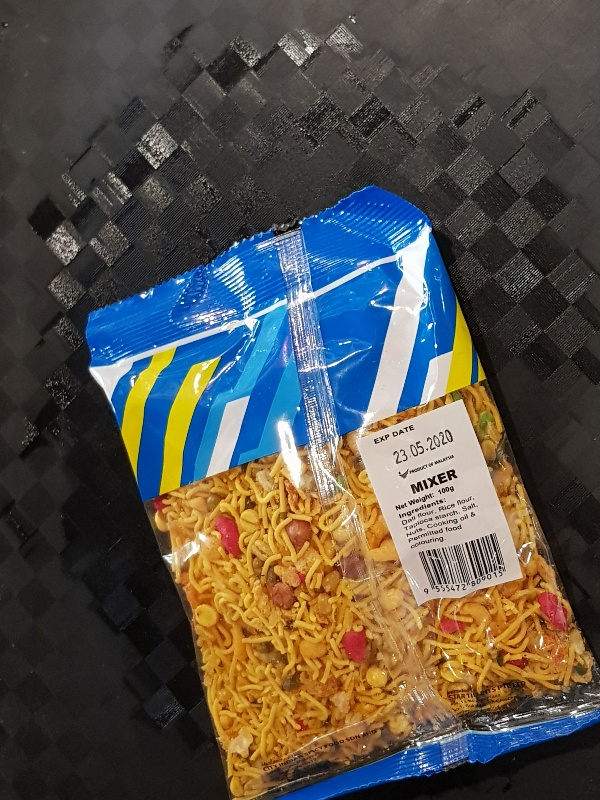Star Tidbits Mixer: (85, 183, 600, 797)
